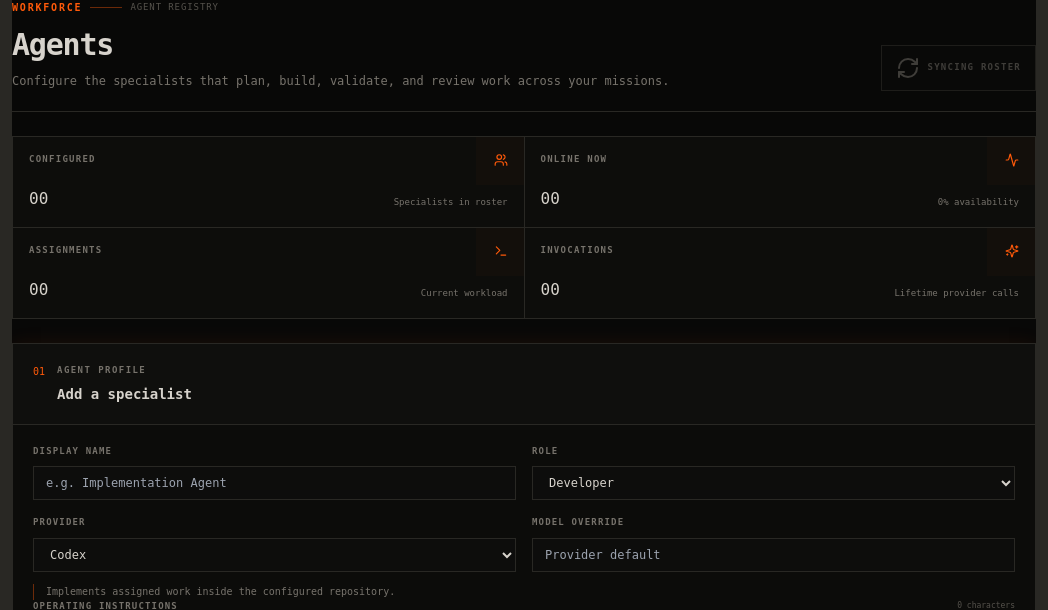
Test case: AgentsPage › creates an enabled agent with the configured profile
Step 1. Type "QA Specialist" into the field labelled "Display name" → [274, 483], box [33,466,516,500]
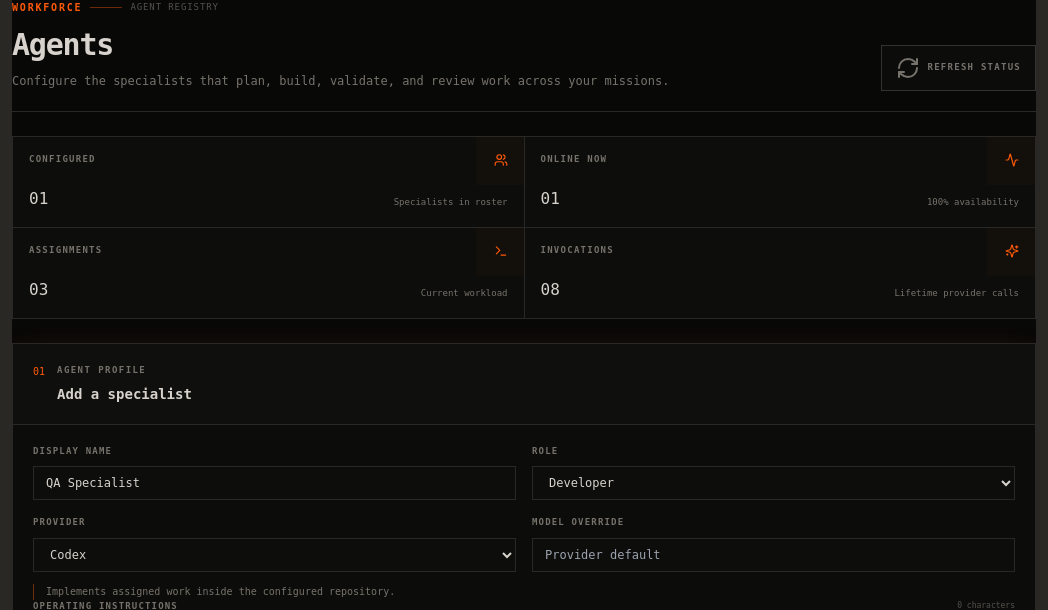
Step 2. Select "Quality assurance" in the dropdown labelled "Role" → [774, 483], box [532,466,1015,500]
(page scrolled)
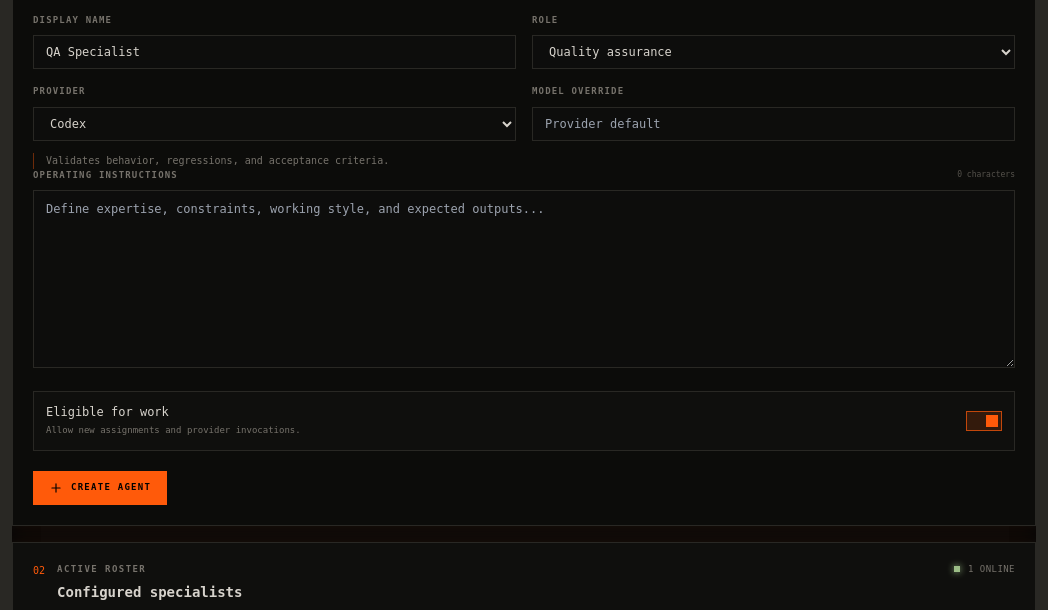
Step 3. Click the button "Create agent" → [100, 488], box [33,470,167,504]
(page scrolled)
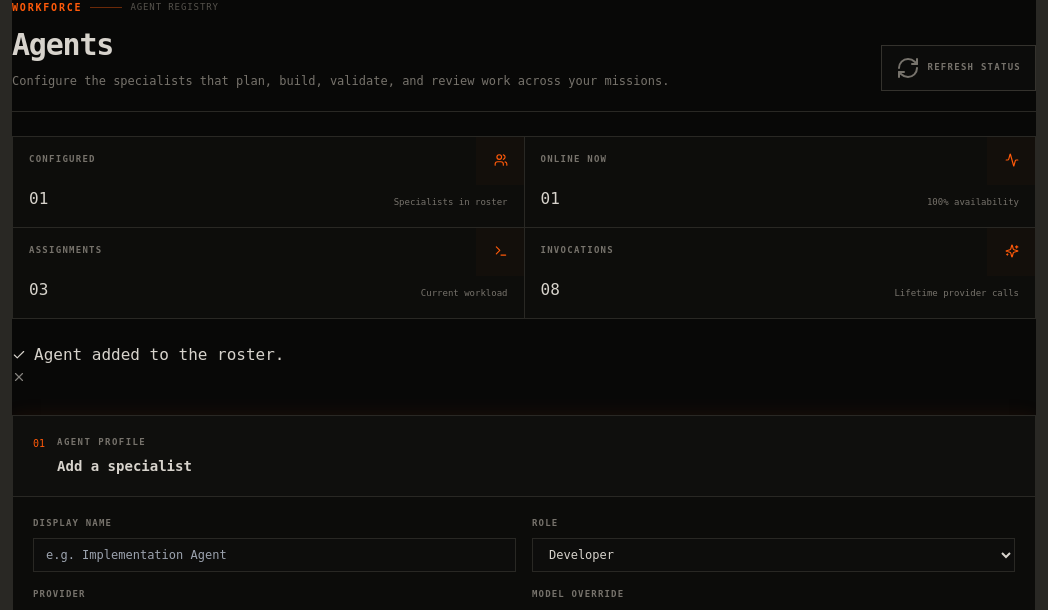
Check: the text "Agent added to the roster." is shown, box [12,345,284,364]
